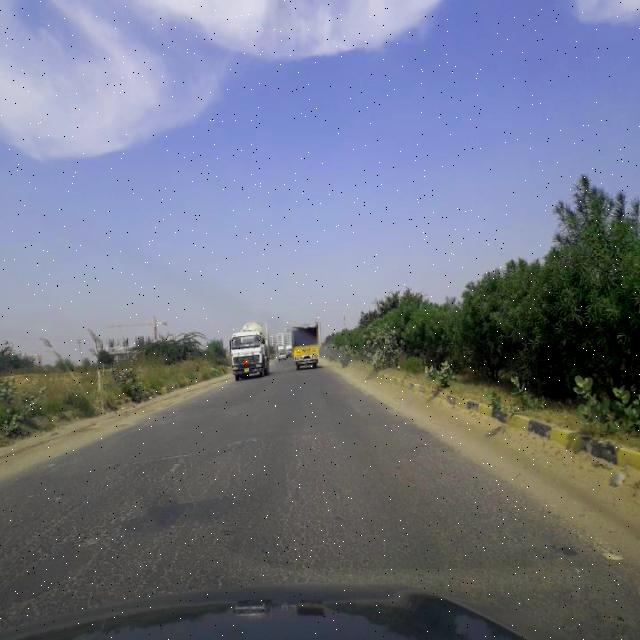D20: (1, 422, 431, 611)
